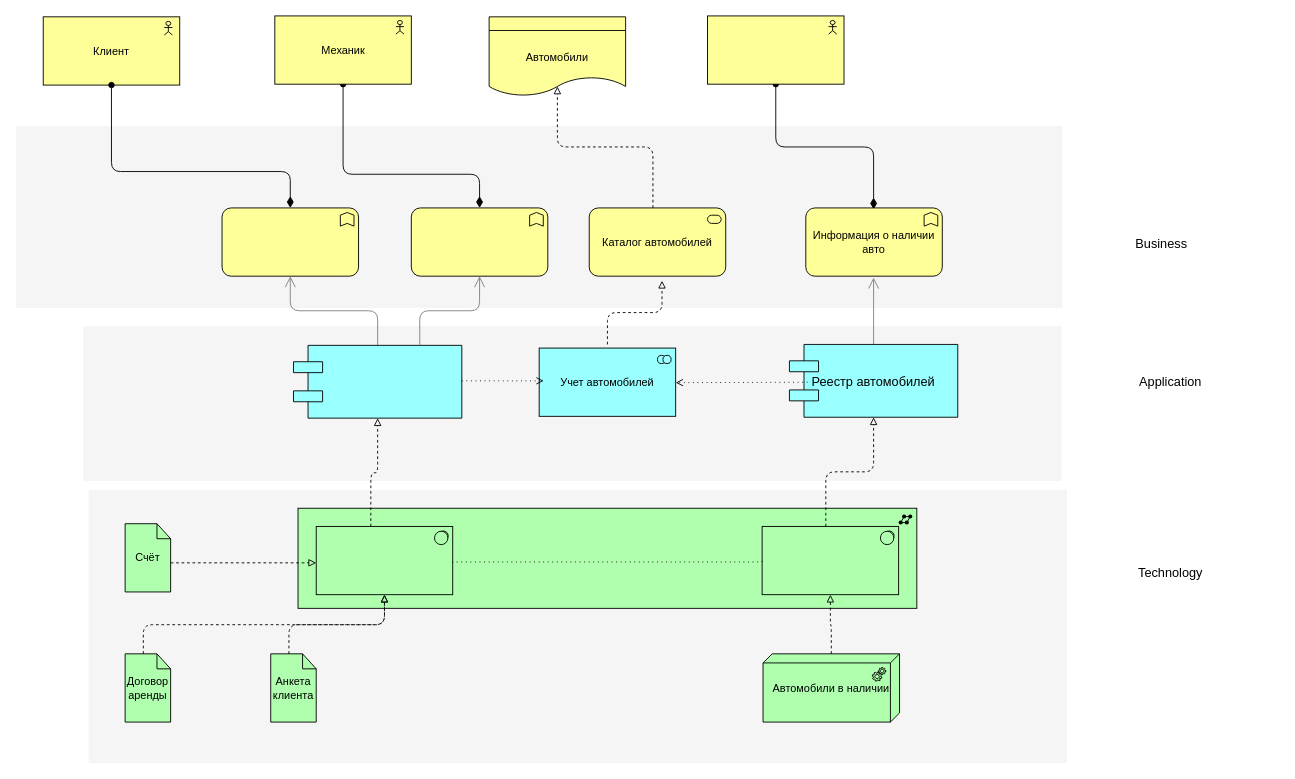
This 1295x779 diagram has some shape labels left out. The shapes that lost their labels are listed below. From the top down, each one's centre as x and y in pixels, then its label:
At point (775, 49): "Сотрудник лизинга".
At point (290, 241): "Аренда автомобиля".
At point (479, 241): "Прием авто".
At point (377, 381): "Система ведения отчетности".
At point (384, 560): "База данных счетов, договоров, анкет".
At point (830, 560): "База данных доступных авто".
